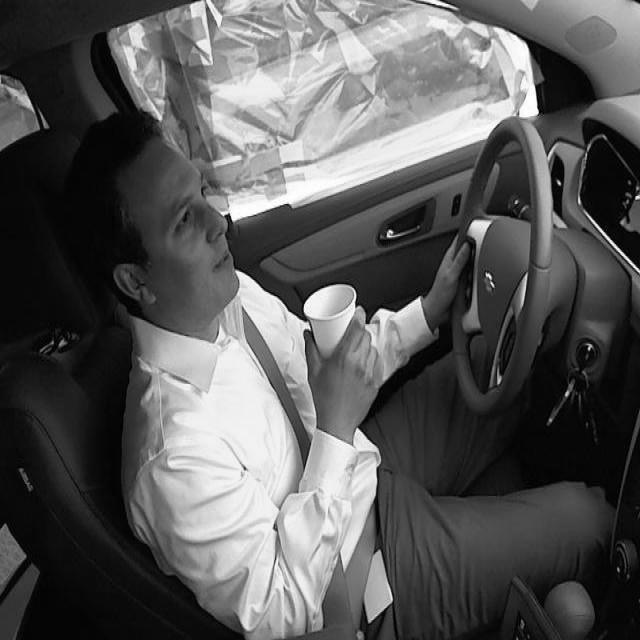Drinking: (302, 283, 359, 368)
